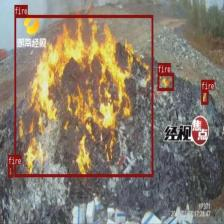fire: (14, 14, 153, 176), (157, 73, 174, 90), (201, 90, 208, 104), (8, 164, 12, 177)
